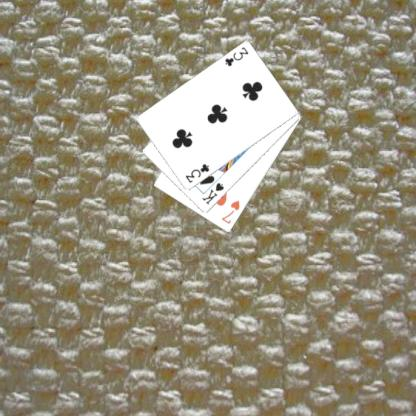3C: (182, 161, 210, 185), (222, 44, 250, 68)
7H: (219, 198, 241, 226)
KS: (200, 180, 226, 206)
